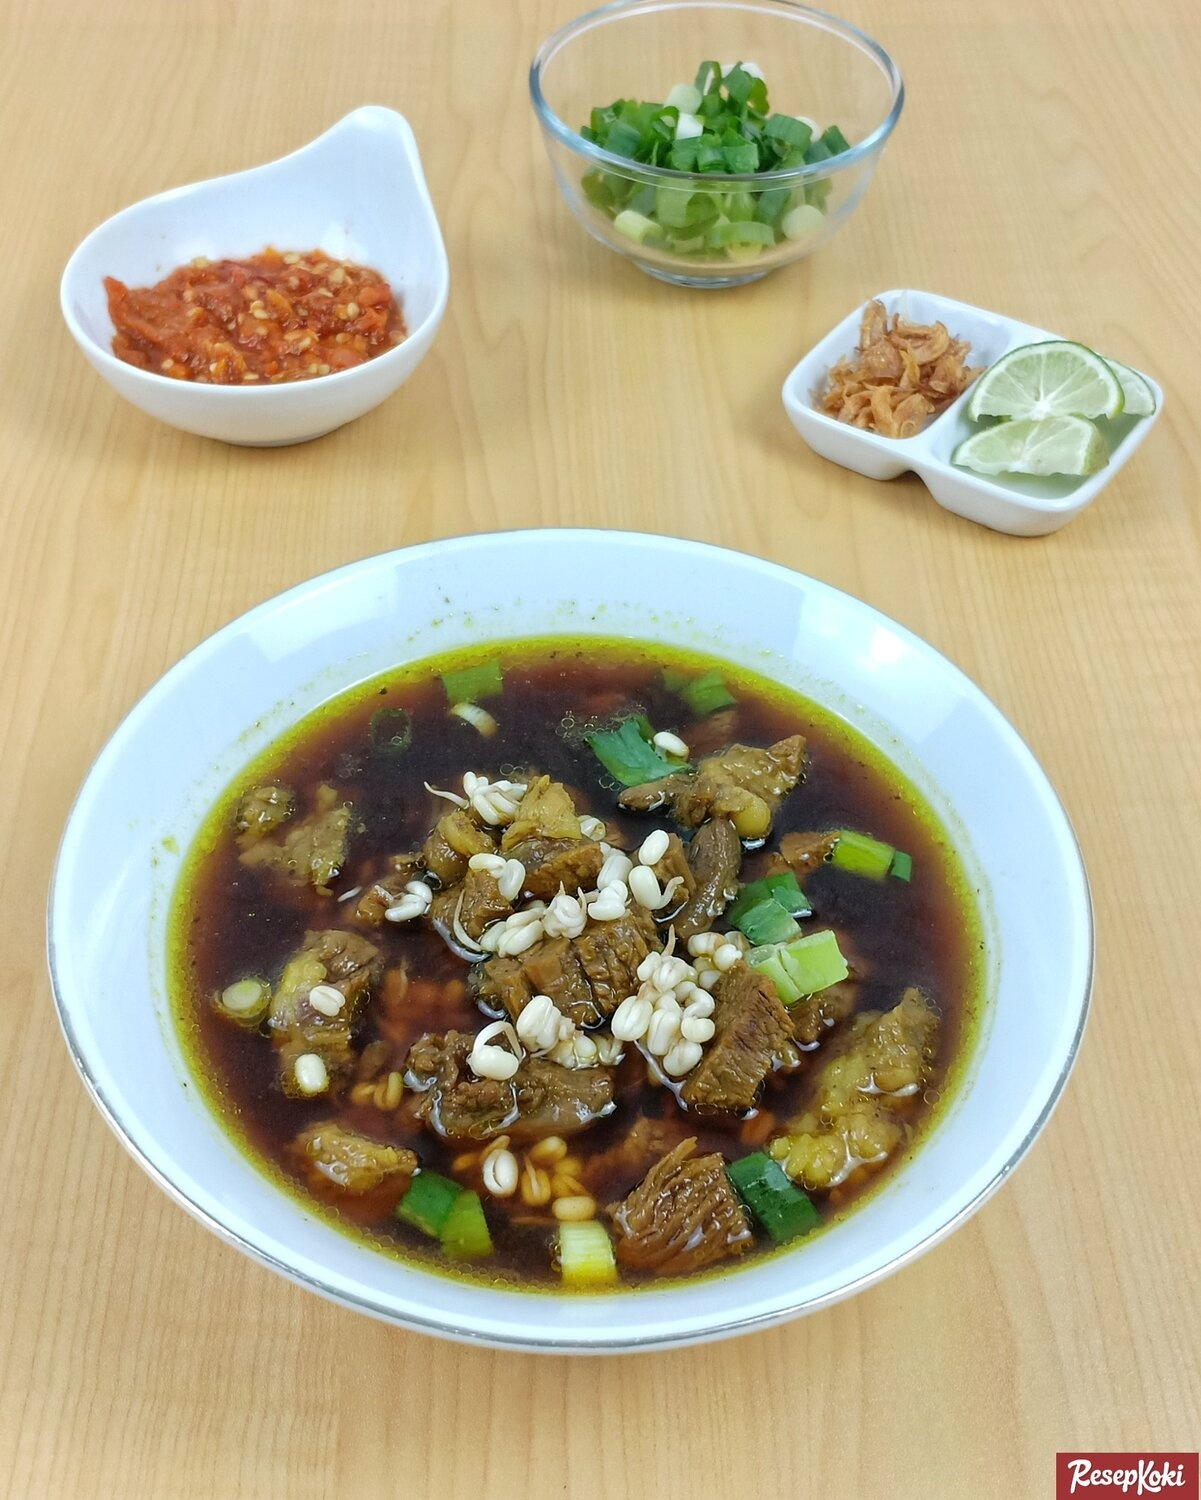rawon: (74, 588, 961, 1244)
